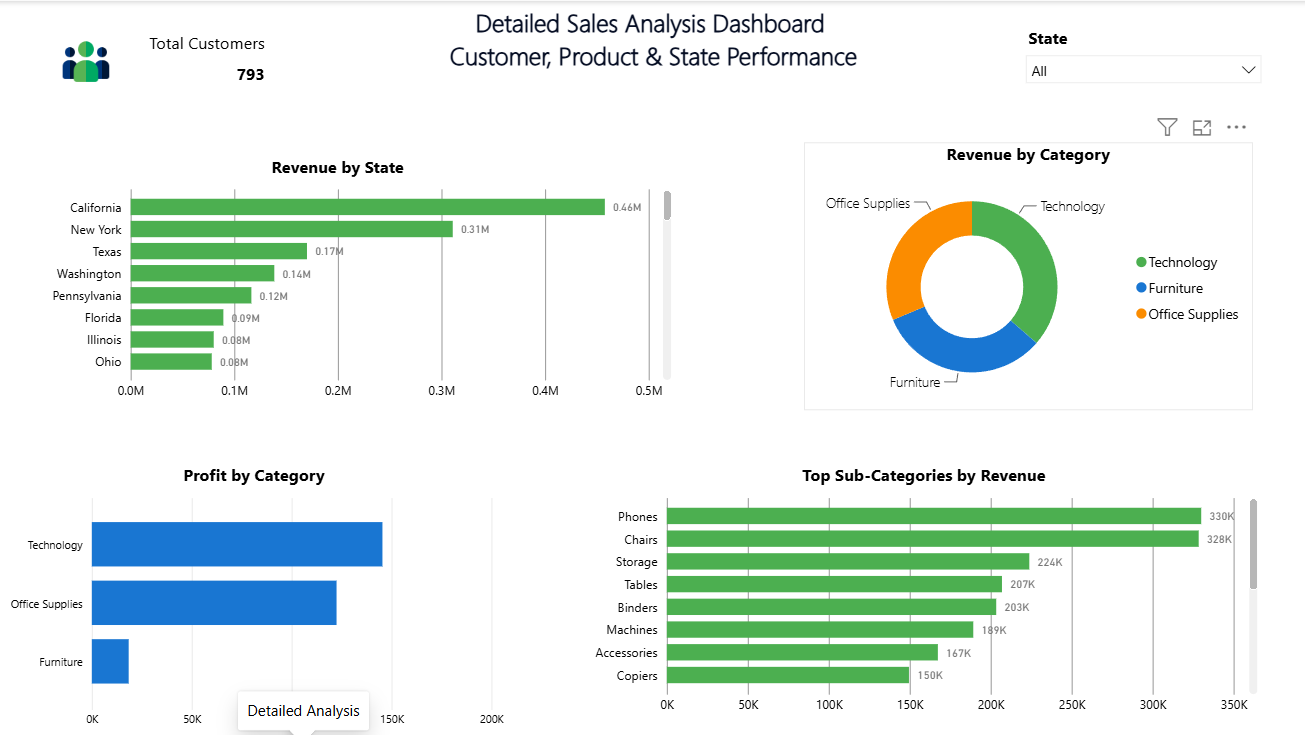

The dashboard page shown, as its layout file describes it:
{"tool":"powerbi","page":{"name":"Detailed Analysis","canvas":[1280,720],"ordinal":1},"visuals":[{"type":"clusteredBarChart","title":" Top Sub-Categories by Revenue","fields":{"Category":["DimProduct.Sub_Category"],"Y":["Sum(FactSales.Sales)"]},"box":[573.5,452.4,662.8,267.8],"z":0},{"type":"clusteredBarChart","title":"Revenue by State","fields":{"Category":["DimLocation.State"],"Y":["Sum(FactSales.Sales)"]},"box":[0,150.4,662.8,249.5],"z":1000},{"type":"textbox","box":[0,0,1280.5,89.6],"z":2000},{"type":"slicer","fields":{"Values":["DimLocation.State"]},"box":[994.2,19.6,250.7,90.5],"z":3000},{"type":"donutChart","title":"Revenue by Category","fields":{"Category":["DimProduct.Category"],"Y":["Sum(FactSales.Sales)"]},"box":[787.5,138.2,439,261.7],"z":4000},{"type":"cardVisual","fields":{"Data":["DimCustomer.Total Customers"]},"box":[17.1,0,260.5,110.1],"z":5000},{"type":"image","box":[57.5,29.3,55,59.9],"z":6000},{"type":"clusteredBarChart","title":"Profit by Category","fields":{"Category":["DimProduct.Category"],"Y":["Sum(FactSales.Profit)"]},"box":[0,452.4,498.9,267.8],"z":6001}]}

Visuals, with their boxes in screenshot pixels (x1, y1, x2, y2), scaled from the page's 1280x720 canvas onto the 1305x735 screenshot:
" Top Sub-Categories by Revenue" clusteredBarChart: x1=585, y1=462, x2=1260, y2=734
"Revenue by State" clusteredBarChart: x1=0, y1=154, x2=676, y2=408
textbox: x1=0, y1=0, x2=1304, y2=91
slicer - DimLocation.State: x1=1014, y1=20, x2=1269, y2=112
"Revenue by Category" donutChart: x1=803, y1=141, x2=1250, y2=408
cardVisual - DimCustomer.Total Customers: x1=17, y1=0, x2=283, y2=112
image: x1=59, y1=30, x2=115, y2=91
"Profit by Category" clusteredBarChart: x1=0, y1=462, x2=509, y2=734
